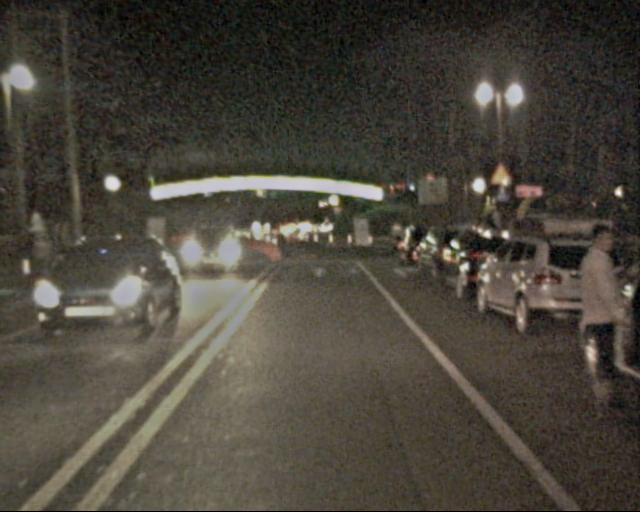person: (555, 224, 639, 412), (389, 220, 405, 259)
